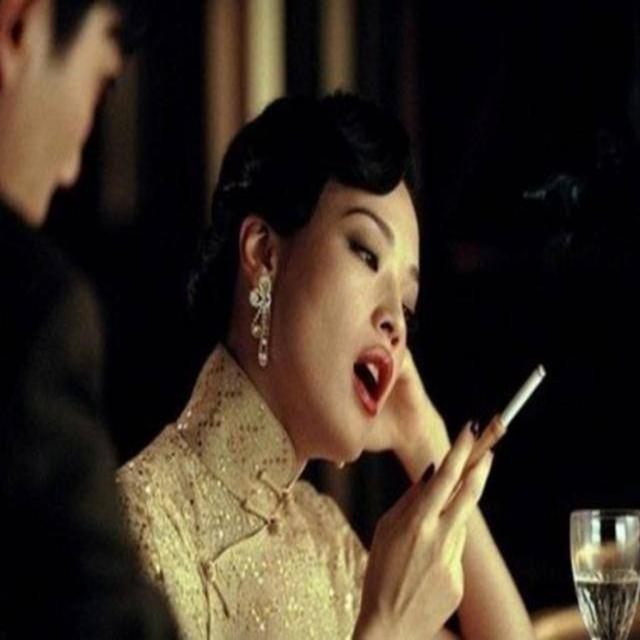smoking: (410, 325, 564, 550)
